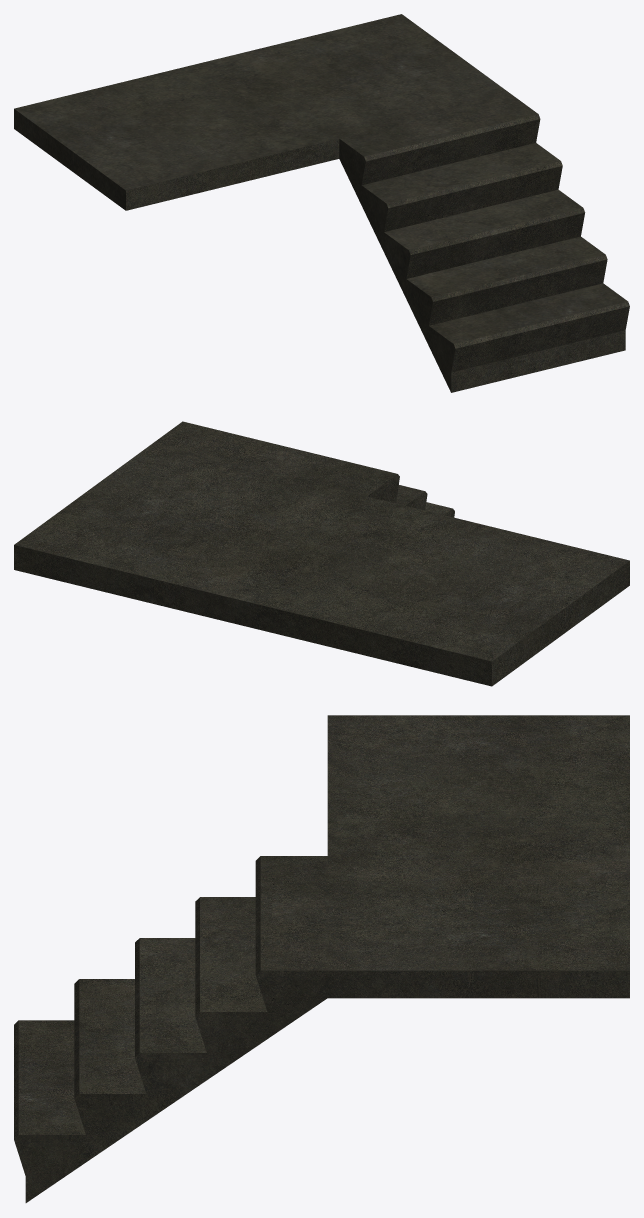
Rendered from stairs_1.glb.
The picture shows the model from 3 angles, top to bottom: view 1: azimuth 30°, elevation 25°; view 2: azimuth 150°, elevation 25°; view 3: azimuth 270°, elevation 25°; orthographic projection. The views are drawn at different scales.
Parts seen in each view (by area): view 1: stairs_1; view 2: stairs_1; view 3: stairs_1.
Boxes of the visible parts, x1,y1,x2,y2 form: stairs_1: (14,14,629,392); stairs_1: (14,421,629,686); stairs_1: (14,715,629,1202).
Size of the model in its own units: 4 by 1.7 by 4.08.
1 material, 1 textured.
